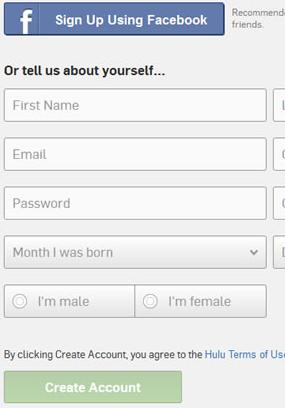button: (3, 1, 225, 36), (4, 370, 183, 404)
field: (3, 88, 268, 123), (3, 185, 268, 220), (3, 136, 268, 171)
